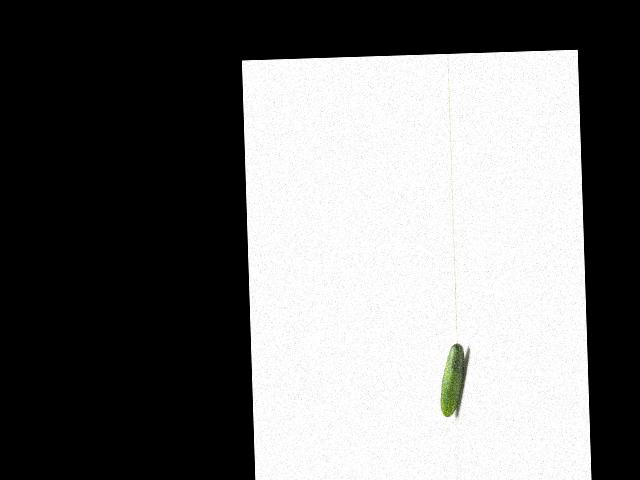cucumber: (438, 342, 467, 416)
